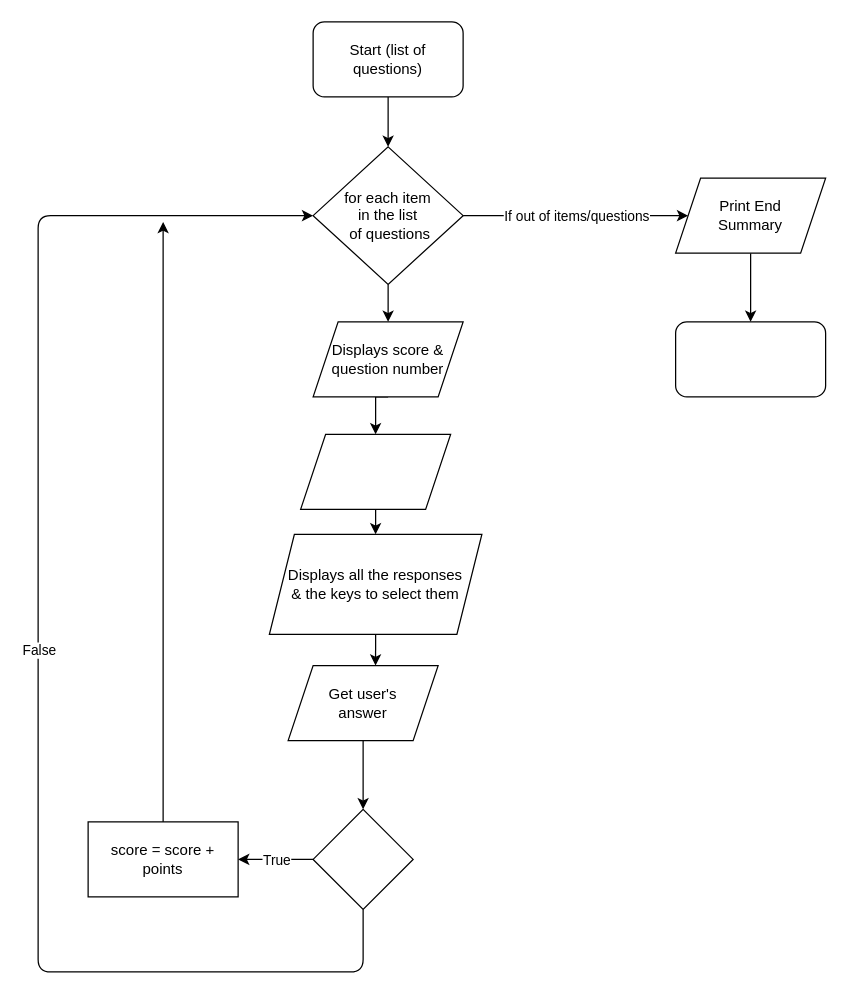
This 848x1004 diagram has some shape labels left out. The shapes that lost their labels are listed below. From the top down, each one's centre as x and y in pixels, then its label:
(750,359): End
(375,471): Displays question text slowly
(362,858): if user's answer is correct
